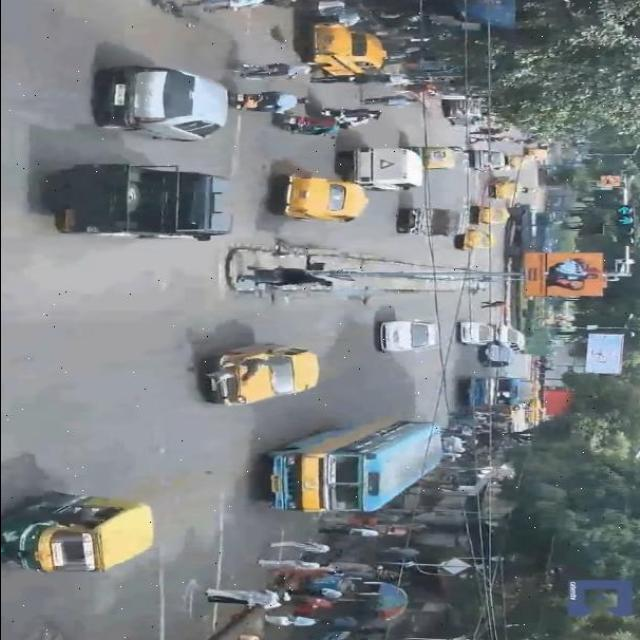accident: (192, 344, 324, 412)
